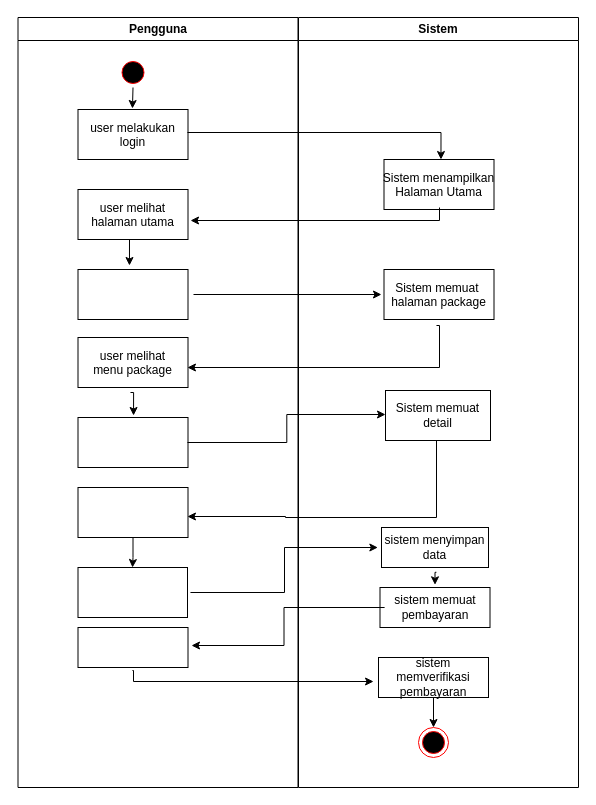
This 596x805 diagram has some shape labels left out. The shapes that lost their labels are listed below. From the top down, each one's centre as x and y in pixels, then its label:
point (132, 294): user membuka menu buy
point (132, 442): user memilih paket
point (132, 512): user mengisi detail pendaftaran paket
point (132, 592): user klik daftar
point (132, 647): user membayar paket
